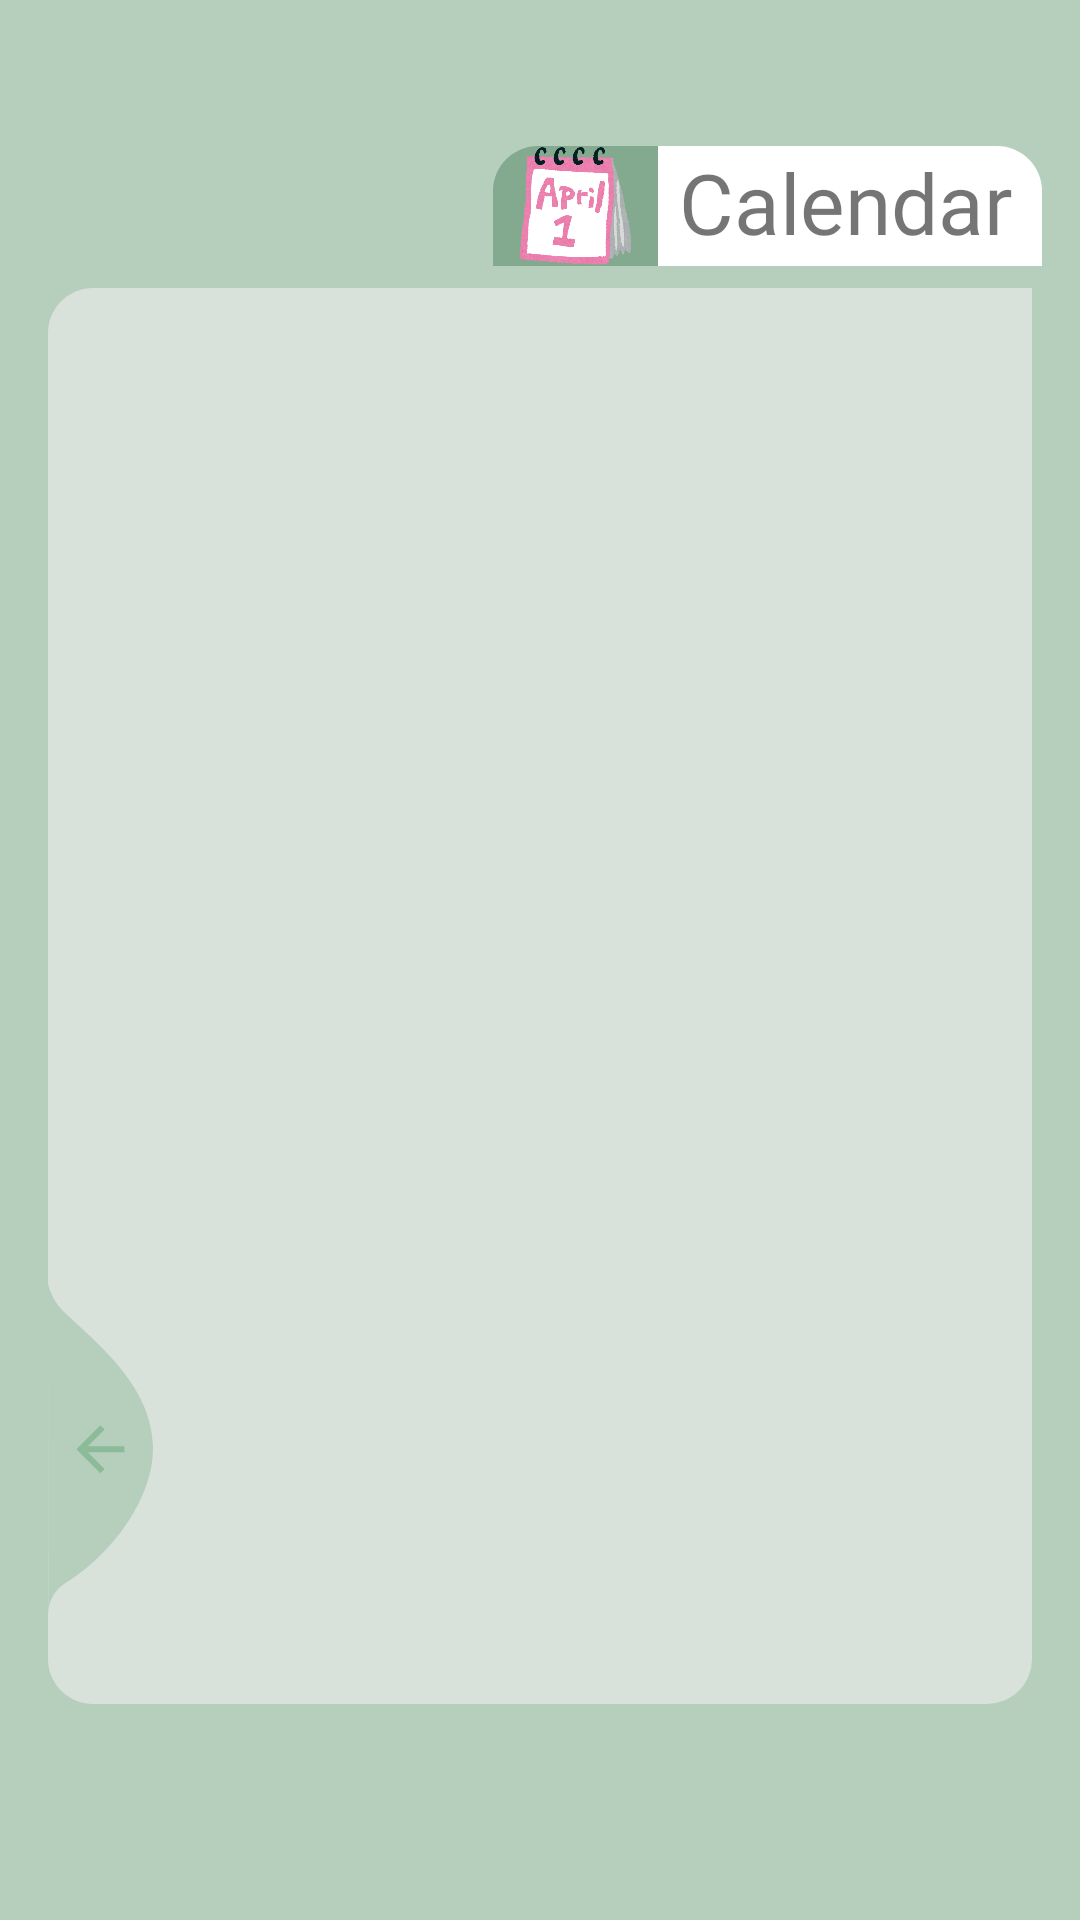

Named icons in this screenshot (1080px×1920px) and their centers, (x=x, y=y):
back: (x=100, y=1447)
